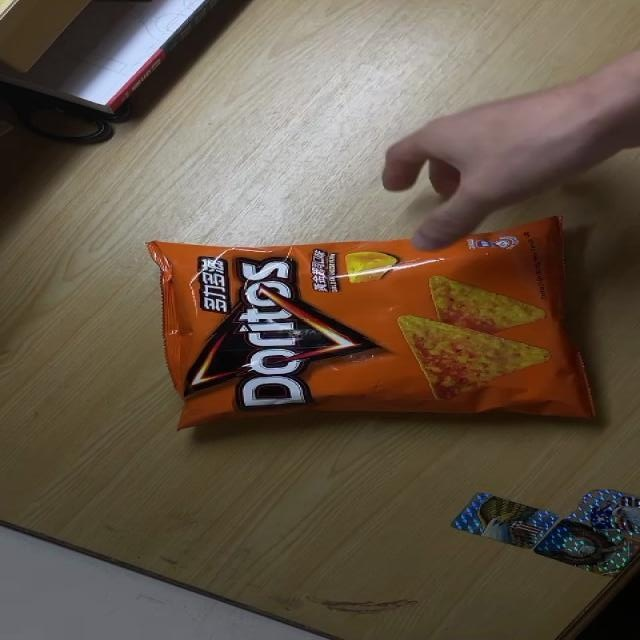Doritos: (146, 216, 598, 430)
